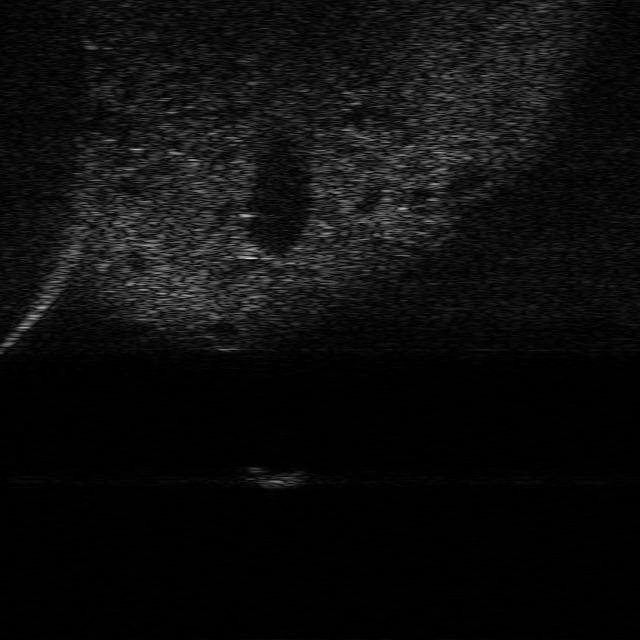cube: (241, 464, 310, 491)
